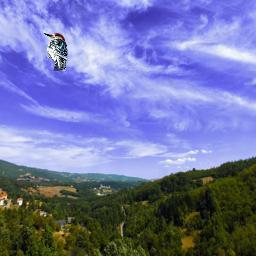Woodpecker: (42, 31, 69, 71)
